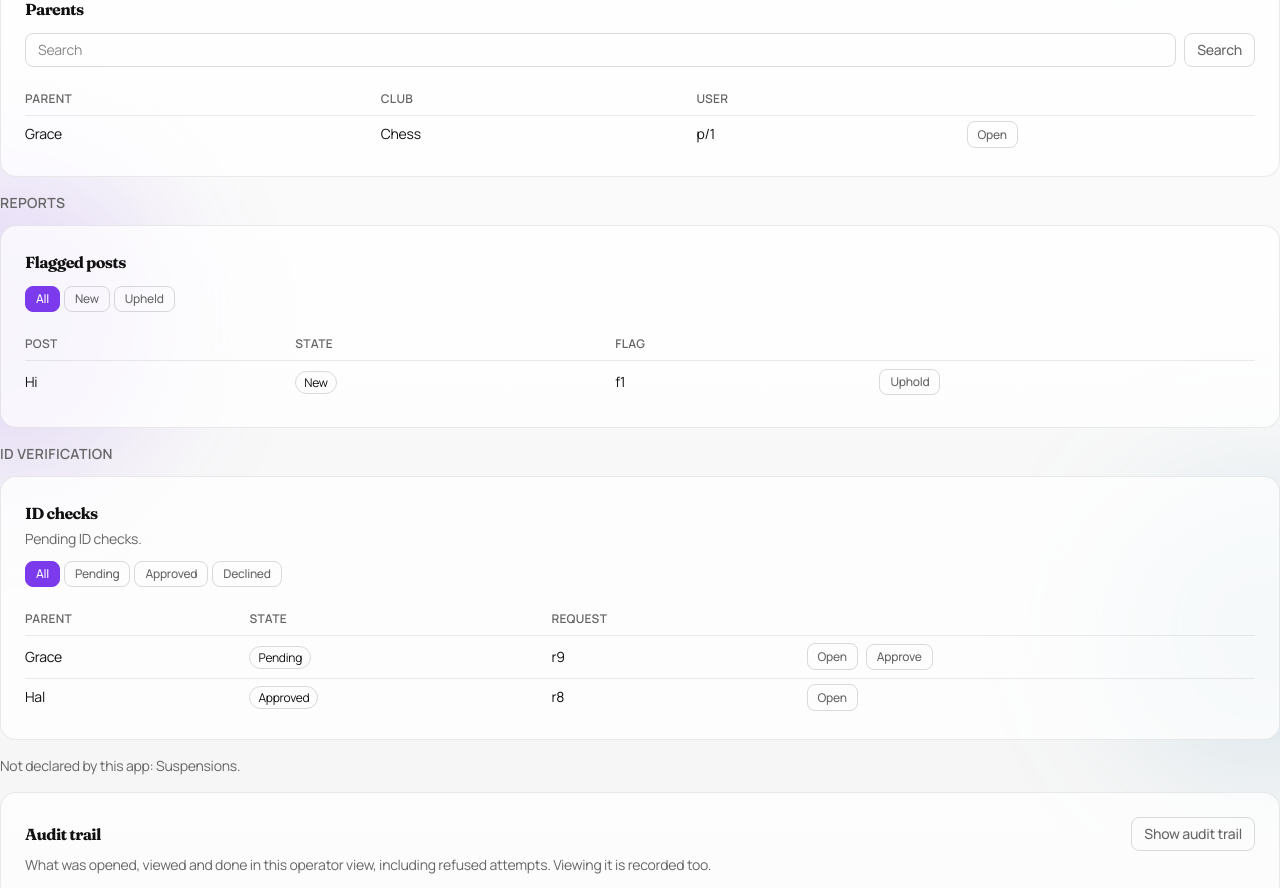
Test case: OperatorView — generic contract rendering › renders a second app (Parents Clubs) through the same code: verification queue, step-up refusal explained
The width and height of the screenshot is (1280, 888).
(page scrolled)
Check: the heading "ID verification" is shown, box [0,444,113,463]
Check: the text "Pending ID checks." is shown, box [25,529,142,548]
Click the button "Approve": (899, 657) [866,644,933,670]
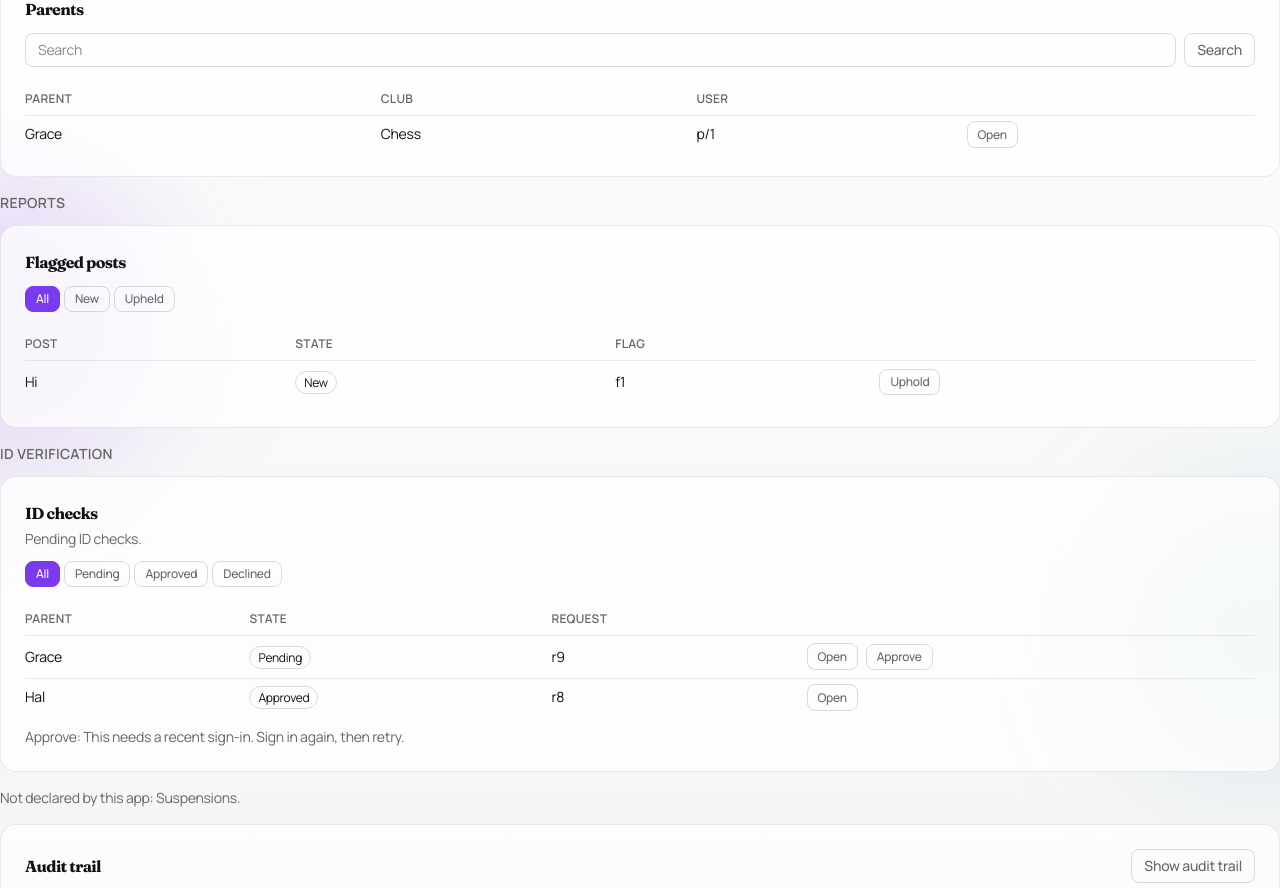
Check: the text "Not declared by this app: Suspensions." is shown, box [0,788,240,807]
Check: the text "Approve: This needs a recent sign-in" is shown, box [25,727,404,746]
